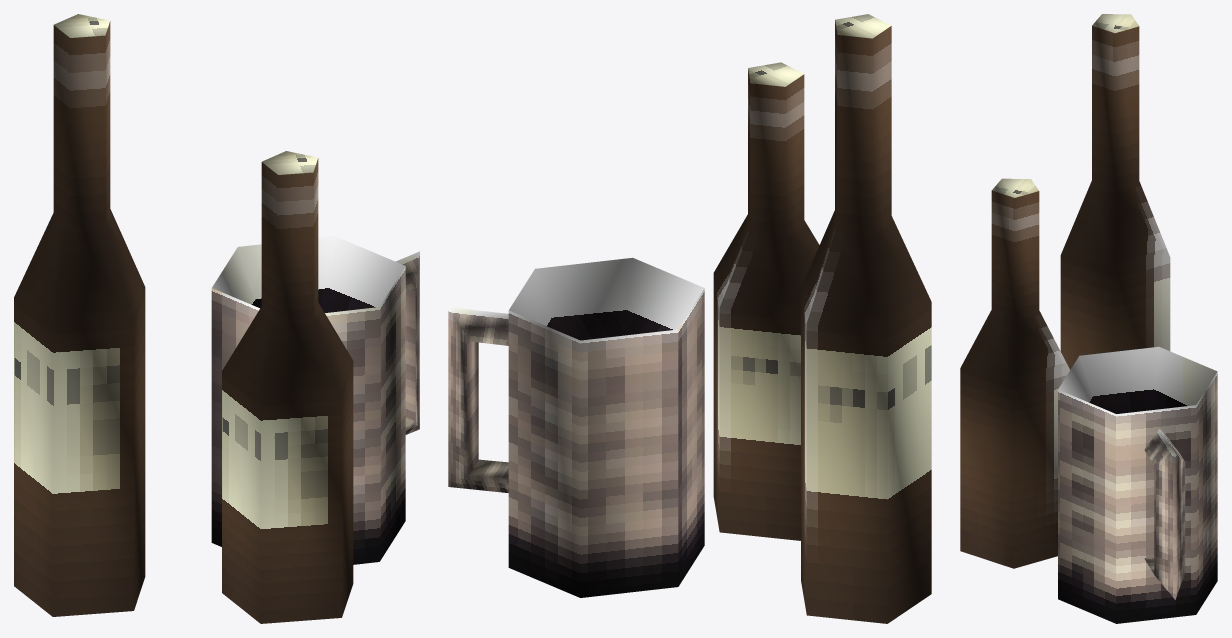
Rendered from Beer03.obj.
The picture shows the model from 3 angles, left to right: view 1: azimuth 30°, elevation 25°; view 2: azimuth 150°, elevation 25°; view 3: azimuth 270°, elevation 25°; orthographic projection. The views are drawn at different scales.
Parts seen in each view (by area): view 1: Mesh_0, Mesh_1; view 2: Mesh_0, Mesh_1; view 3: Mesh_0, Mesh_1.
Part boxes in pixels (<box>): Mesh_0: <box>14,14,353,623</box>; Mesh_1: <box>211,236,419,564</box>; Mesh_0: <box>713,14,931,623</box>; Mesh_1: <box>448,257,704,597</box>; Mesh_0: <box>960,14,1170,568</box>; Mesh_1: <box>1058,346,1217,623</box>.
Size of the model in its own units: 0.4772 by 0.6183 by 0.3056.
2 materials, 2 textured.
